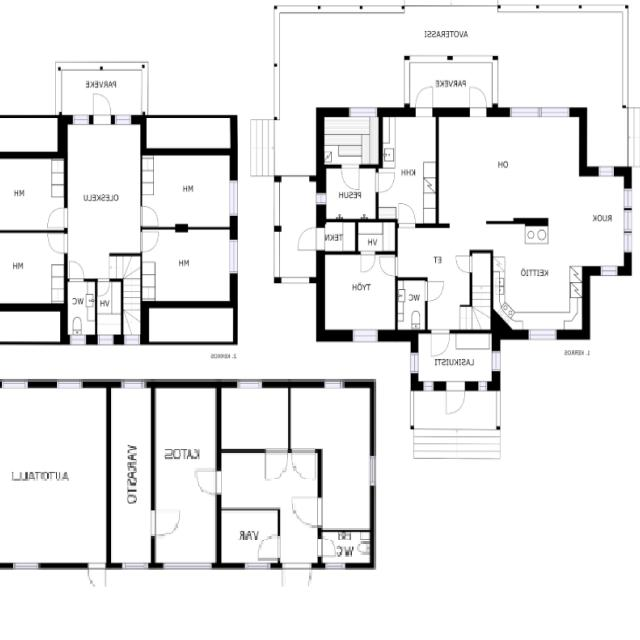door: (282, 563, 311, 604), (294, 498, 322, 527), (292, 448, 315, 481), (265, 448, 288, 480), (151, 510, 176, 536), (298, 228, 325, 250), (446, 382, 465, 413), (198, 471, 222, 494), (93, 94, 111, 124), (469, 87, 486, 117), (88, 563, 105, 591), (341, 164, 359, 189), (416, 88, 432, 116), (260, 536, 280, 558), (432, 330, 449, 355), (48, 208, 68, 228), (399, 204, 415, 227), (376, 173, 395, 192), (424, 282, 444, 300), (141, 232, 159, 252), (141, 206, 159, 226), (318, 539, 337, 557), (380, 257, 398, 276), (49, 235, 67, 254), (69, 261, 84, 281), (361, 251, 375, 272), (456, 256, 472, 273), (98, 278, 110, 295)
